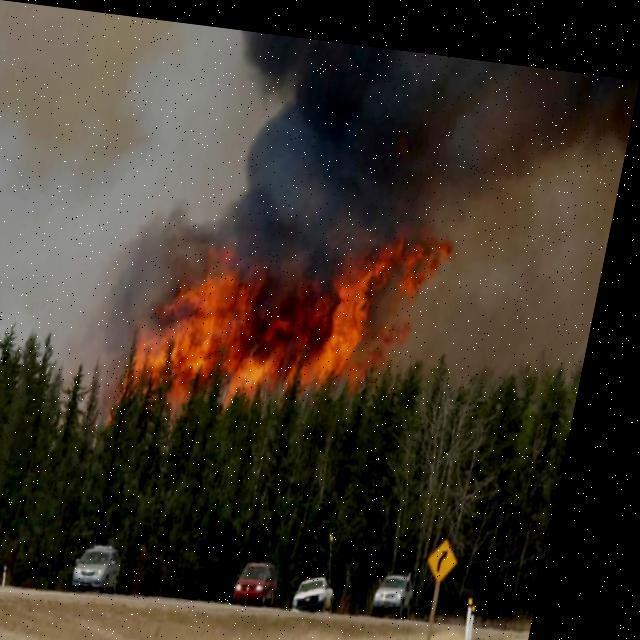Fire: (123, 190, 460, 416)
